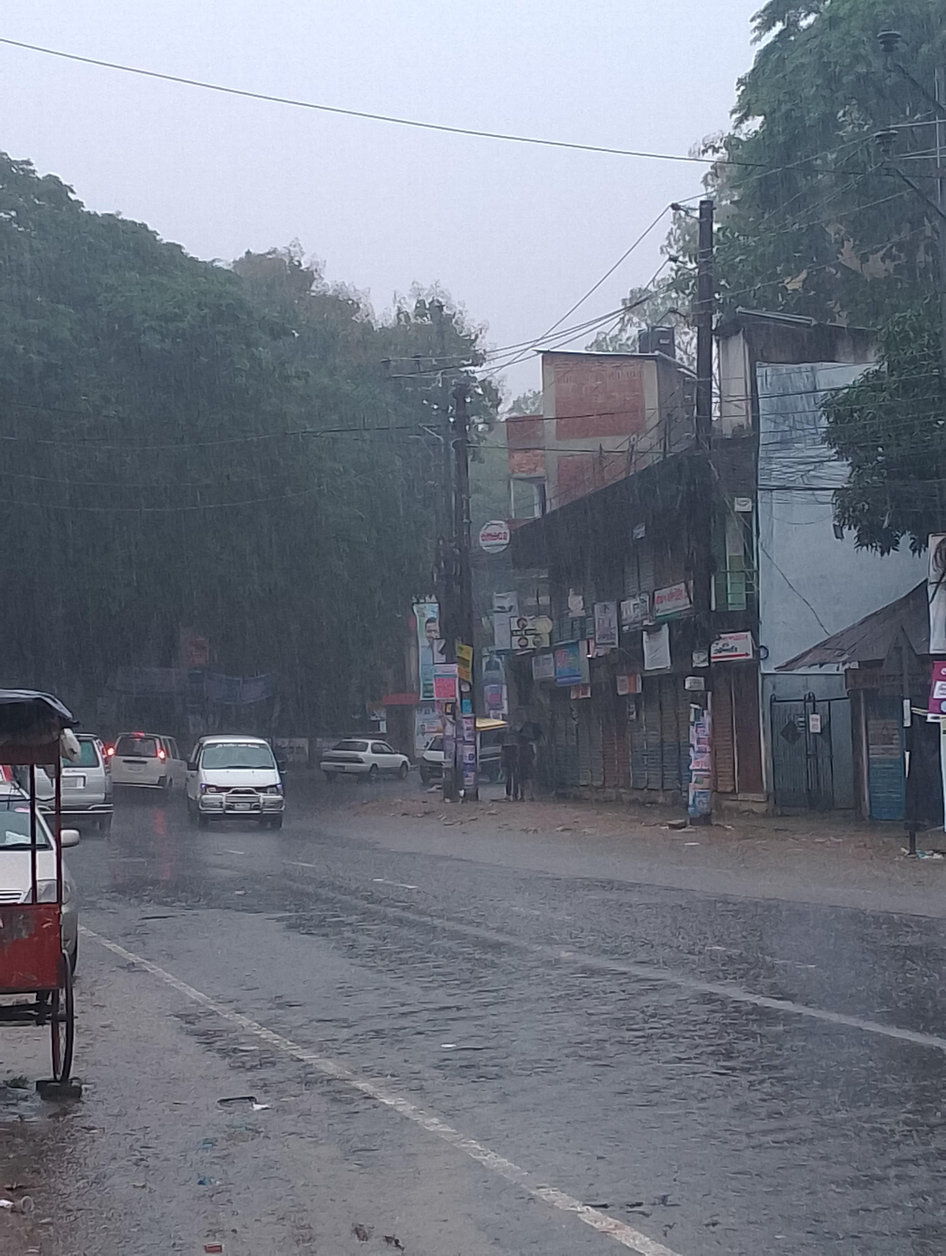Car: (180, 730, 294, 832), (109, 728, 179, 811), (323, 734, 411, 791)
